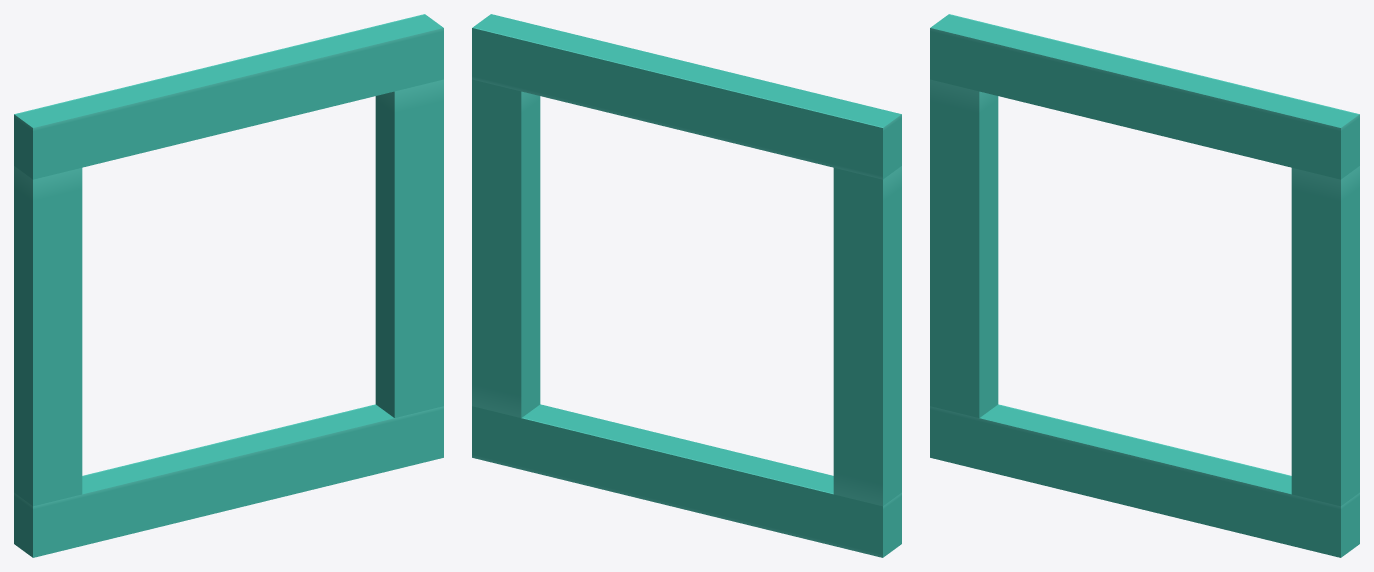
The model's file is sc_ray_ring.obj.
3 renders of one model, left to right at view 1: azimuth 30°, elevation 25°; view 2: azimuth 150°, elevation 25°; view 3: azimuth 330°, elevation 25°, orthographic.
Bounding box in the file's own units: 5 × 5 × 0.4.
Materials: 1 (1 with a texture image).
